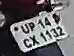1: (38, 31, 47, 42), (46, 28, 53, 38), (38, 19, 44, 28)
2: (56, 25, 64, 36)
3: (50, 28, 59, 38)
4: (43, 16, 51, 26)
C: (22, 37, 32, 49)
P: (27, 21, 36, 31)
U: (19, 24, 29, 35)
X: (28, 34, 37, 46)
